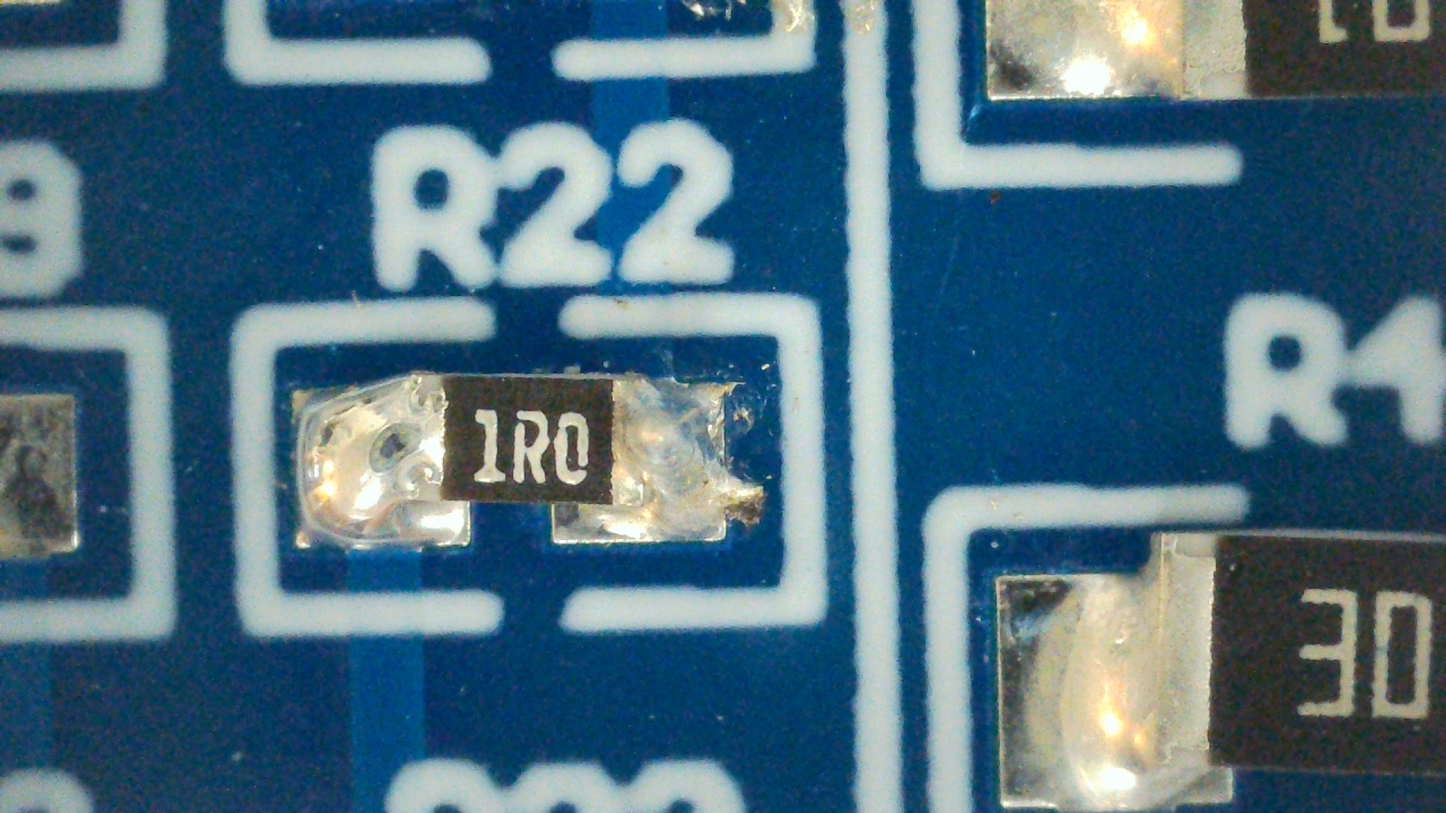NG: (294, 372, 761, 551)
